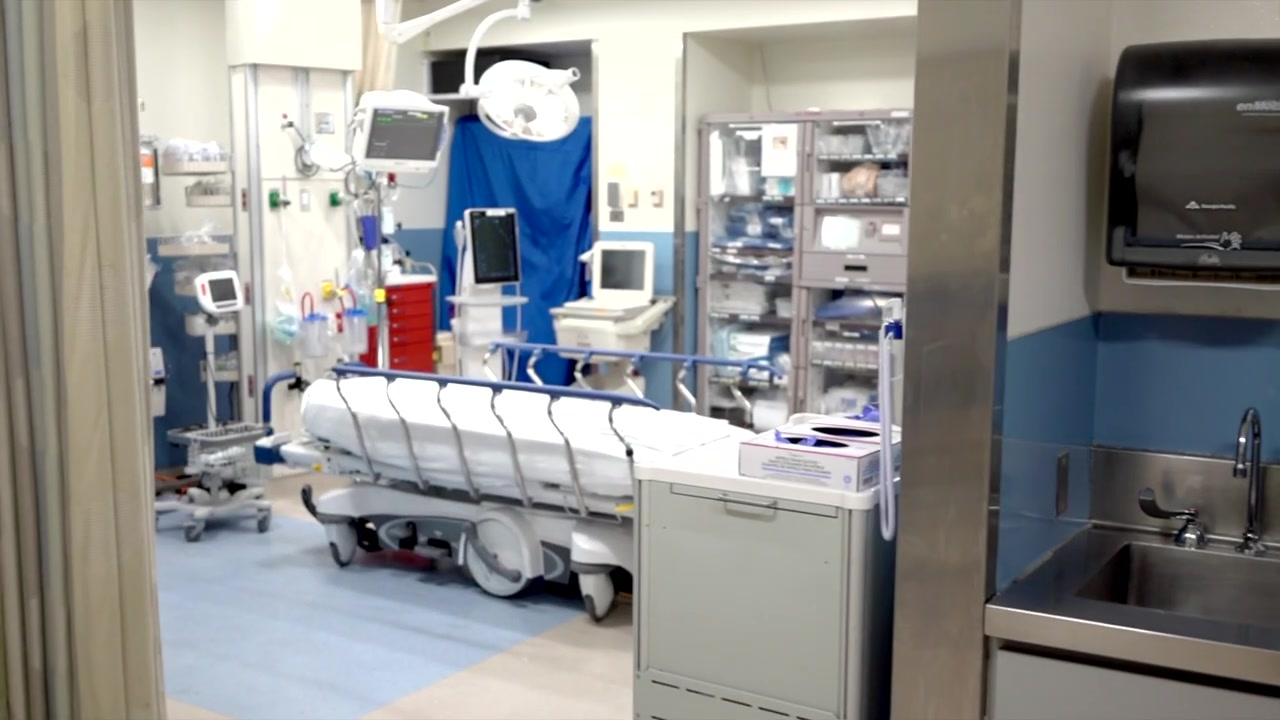bedrail: (330, 359, 661, 517), (484, 335, 782, 430)
bedside_monitor: (356, 97, 450, 173), (464, 207, 522, 288), (590, 240, 655, 304), (193, 269, 244, 317)
bedside_table: (631, 427, 900, 719)
cabinet: (696, 104, 914, 426)
curtain: (1, 1, 168, 720), (432, 115, 594, 386)
dispenser: (1098, 34, 1280, 320)
faucet: (1229, 403, 1270, 554), (1133, 477, 1206, 547)
handle: (715, 491, 785, 513)
hospital_bed: (280, 337, 801, 623)
iv_pole: (361, 173, 393, 369)
medical_drawer: (360, 272, 437, 373)
sink: (983, 524, 1280, 692)
surgical_light: (476, 59, 582, 140)
